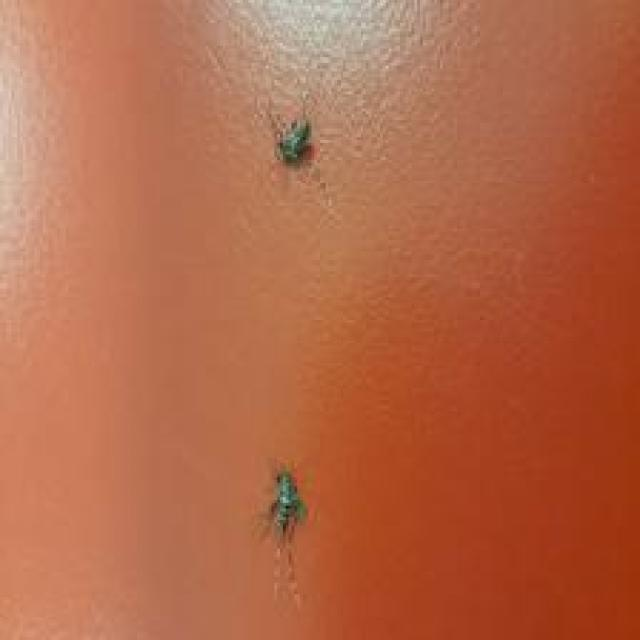Aedes albopictus: (260, 461, 309, 610)
